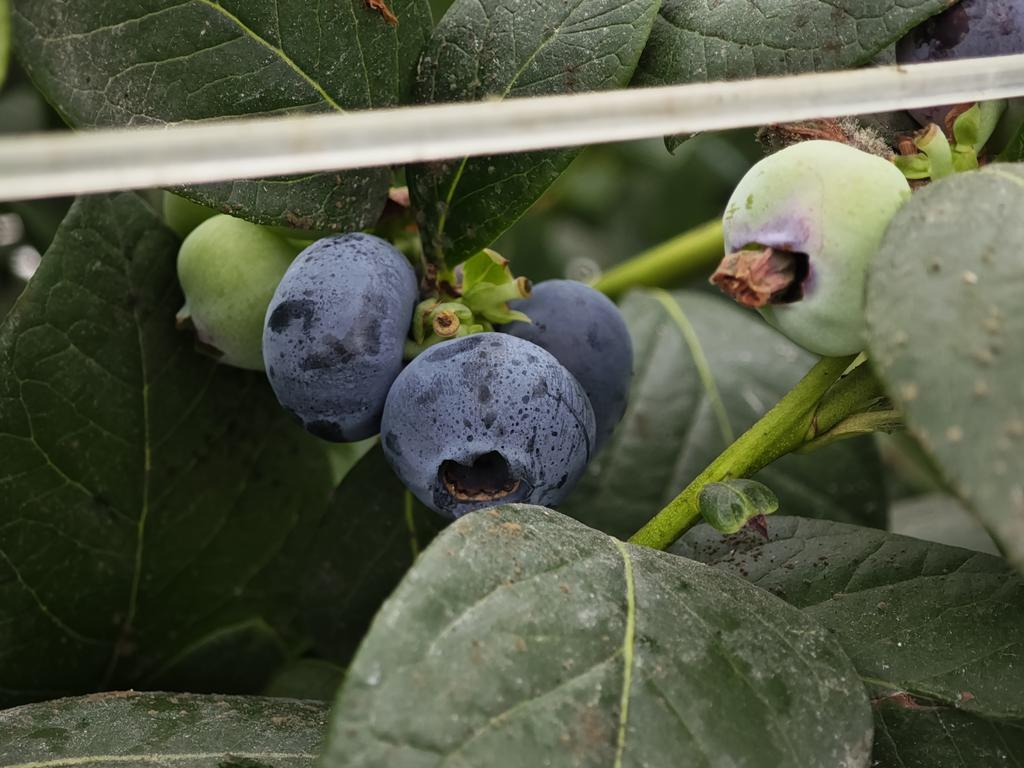RipeBlueBerry: (386, 329, 596, 518), (267, 227, 413, 442)
UnripeBlueBerry: (722, 137, 914, 360)
